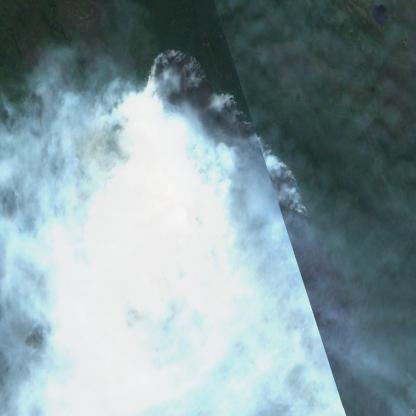fire: (132, 40, 308, 372)
